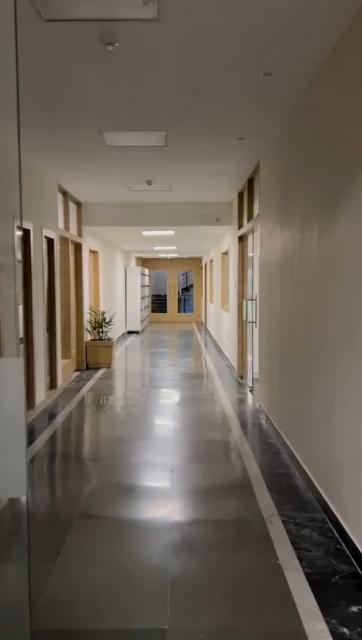door: (58, 194, 80, 372), (153, 254, 205, 326), (238, 190, 252, 388)
floor: (24, 326, 362, 639)
object: (82, 312, 114, 378)
wall: (261, 4, 360, 550), (32, 173, 46, 399), (101, 242, 125, 308), (212, 245, 220, 338), (232, 233, 236, 364)
